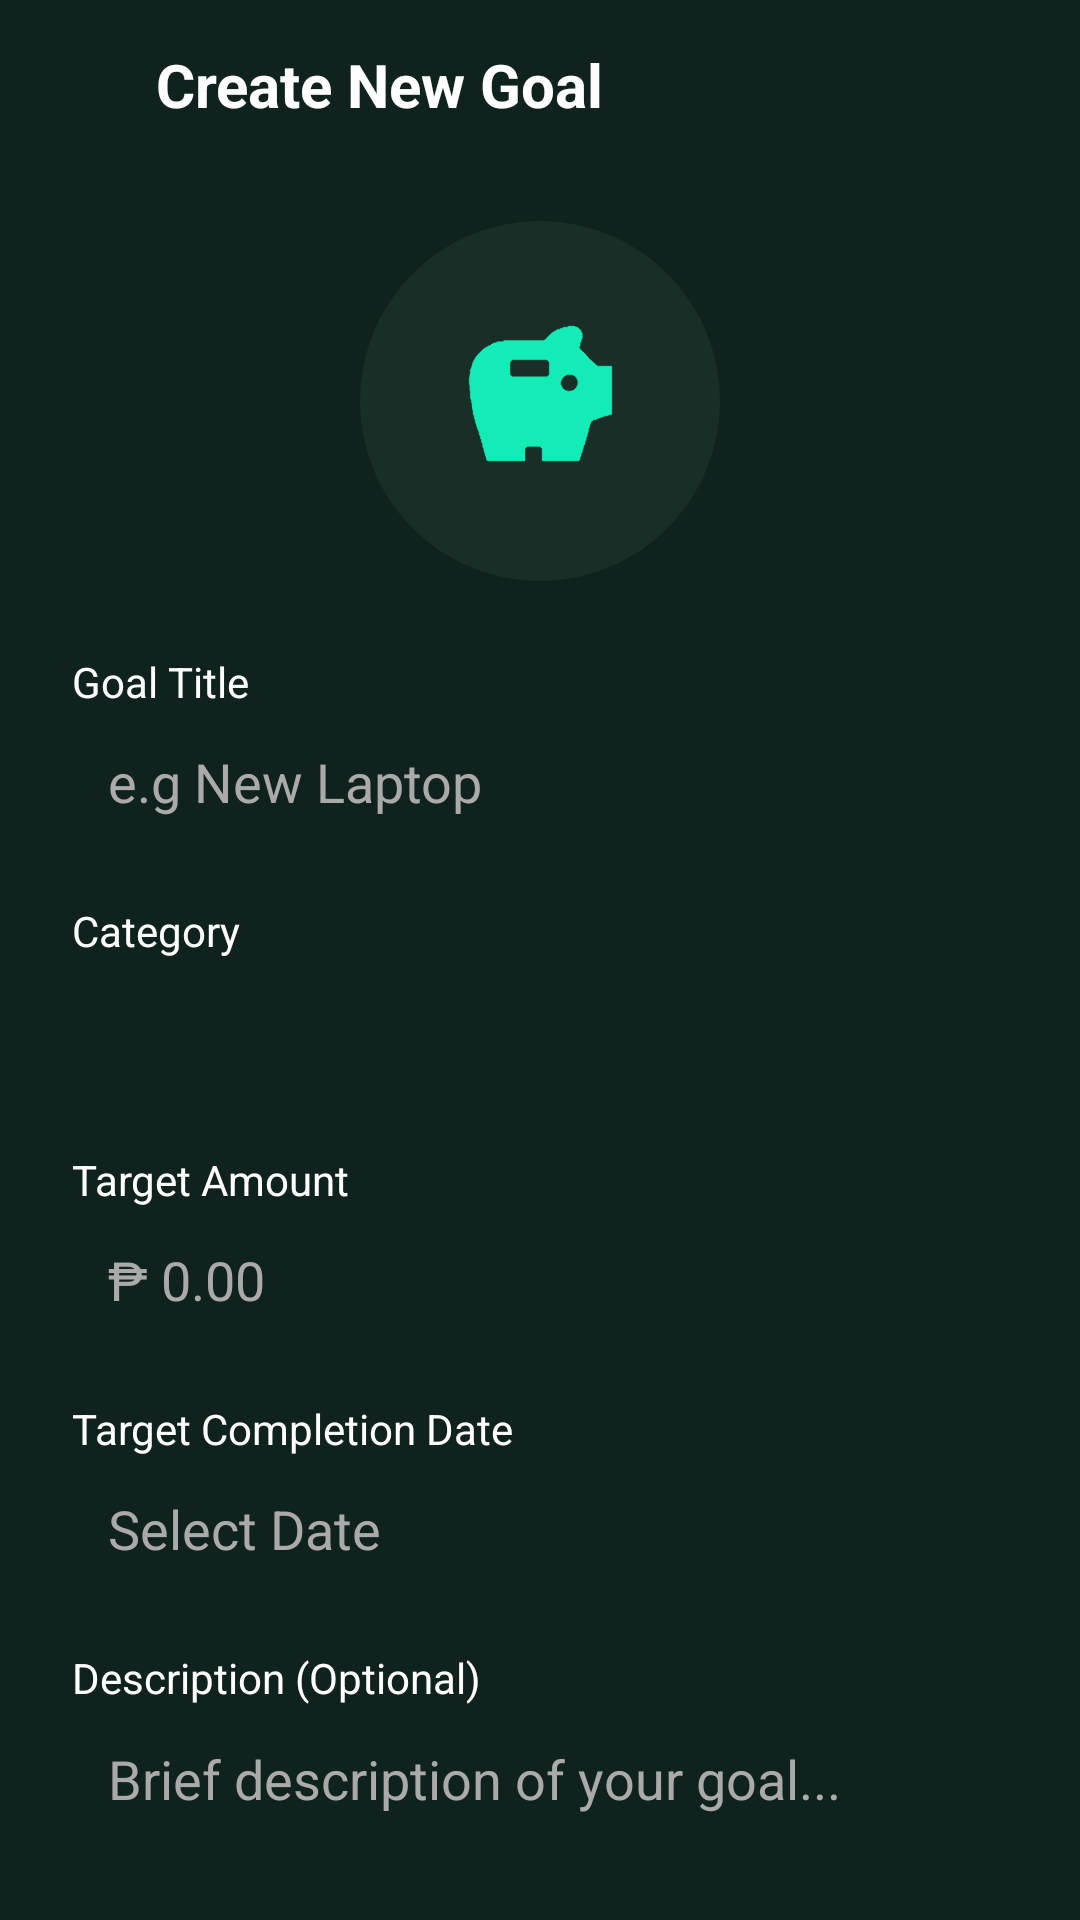

Icons on this 1080px x 1920px Android screen, each with the point to tap as (x,y):
piggy: (540,393)
